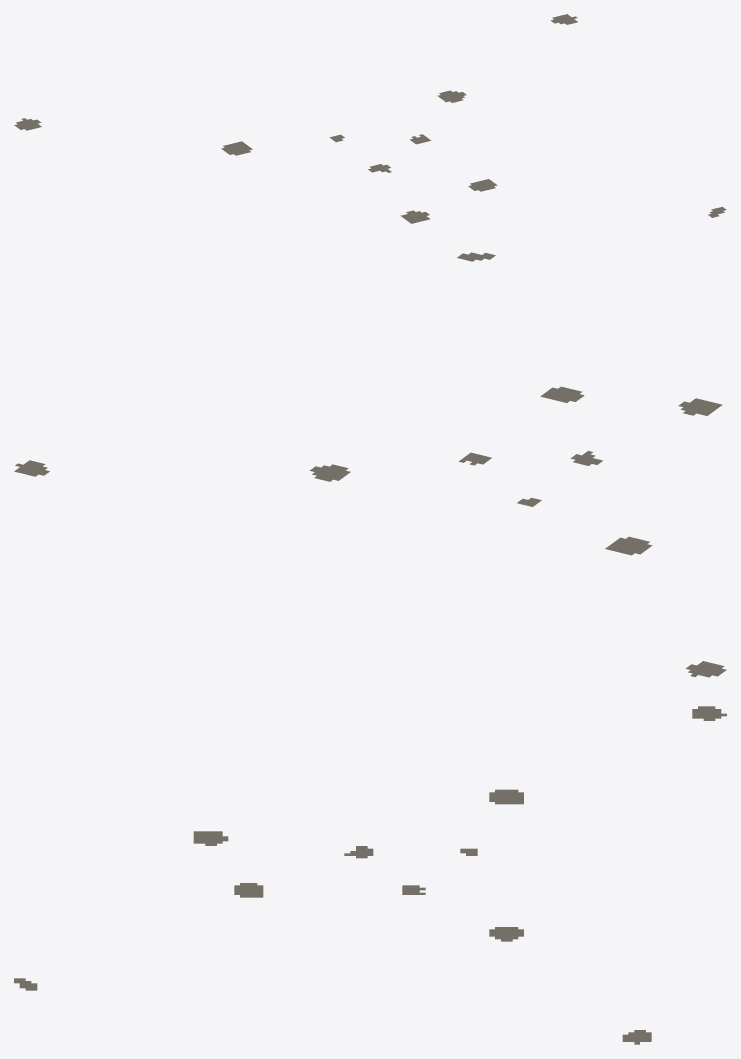
The model's file is Inv-1-RocksArea.fbx.
The picture shows the model from 3 angles, top to bottom: view 1: azimuth 30°, elevation 25°; view 2: azimuth 150°, elevation 25°; view 3: azimuth 270°, elevation 25°; orthographic projection. The views are drawn at different scales.
Parts seen in each view (by area): view 1: Inv-1-RocksArea; view 2: Inv-1-RocksArea; view 3: Inv-1-RocksArea.
Boxes of the visible parts, bbox=[...] form: Inv-1-RocksArea: bbox=[14, 14, 726, 223]; Inv-1-RocksArea: bbox=[14, 252, 726, 677]; Inv-1-RocksArea: bbox=[14, 706, 726, 1044].
Bounding box in the file's own units: 138 × 0 × 123.
